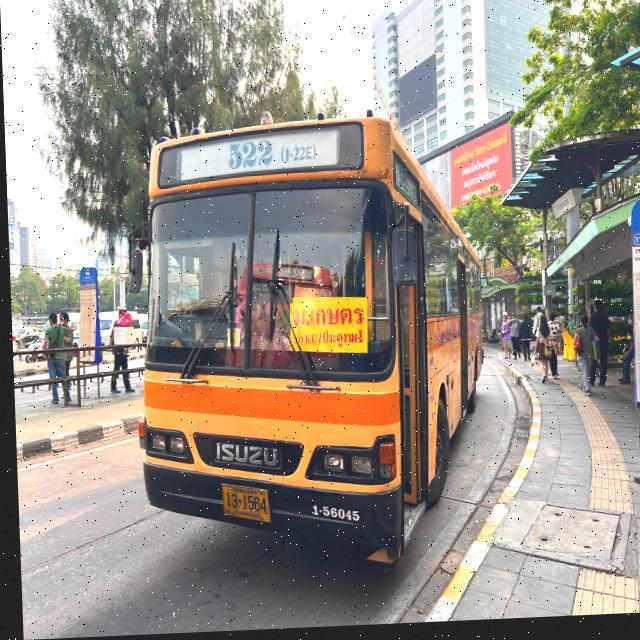BMTA-bus: (114, 92, 496, 599)
Bus Line Number: (220, 141, 324, 171)
Bus Side Number: (306, 498, 357, 530)
Destination Sign: (284, 304, 366, 360)
